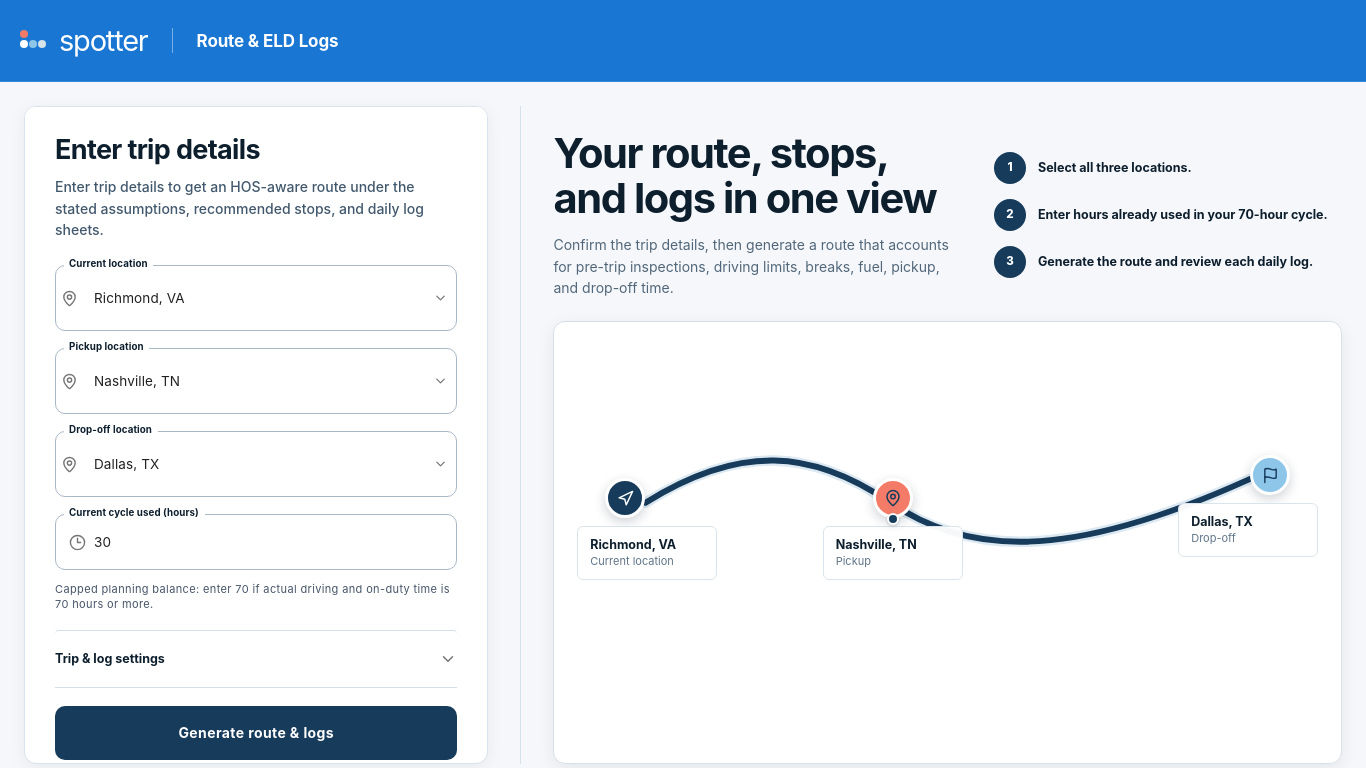
Test: Spotter application › clears a route API error as soon as the form changes
Click the button "Generate route & logs": (256, 733) [55,706,457,760]
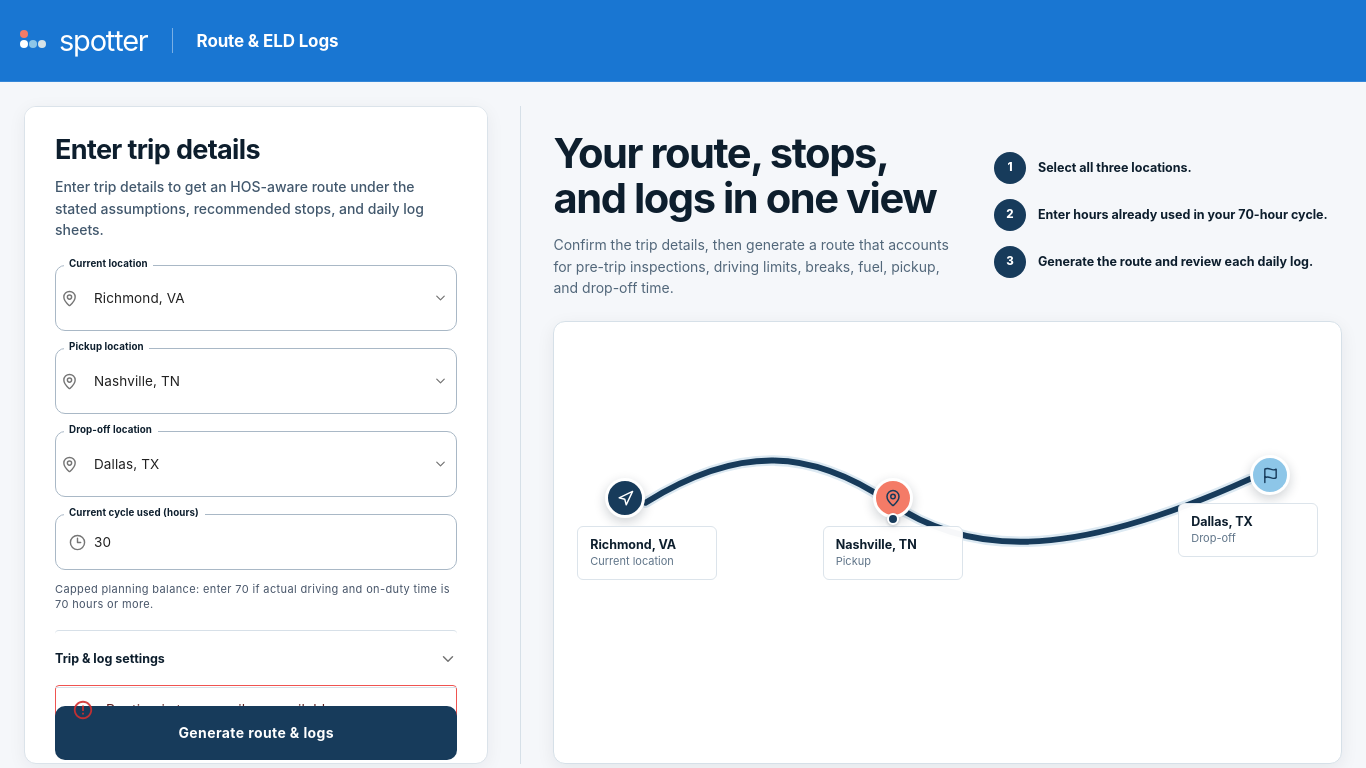
Now the text "Routing is temporarily unavailable." is shown, box [106,700,338,720]
Clear the number field labelled "Current cycle used (hours)": (276, 542) [94,515,457,569]
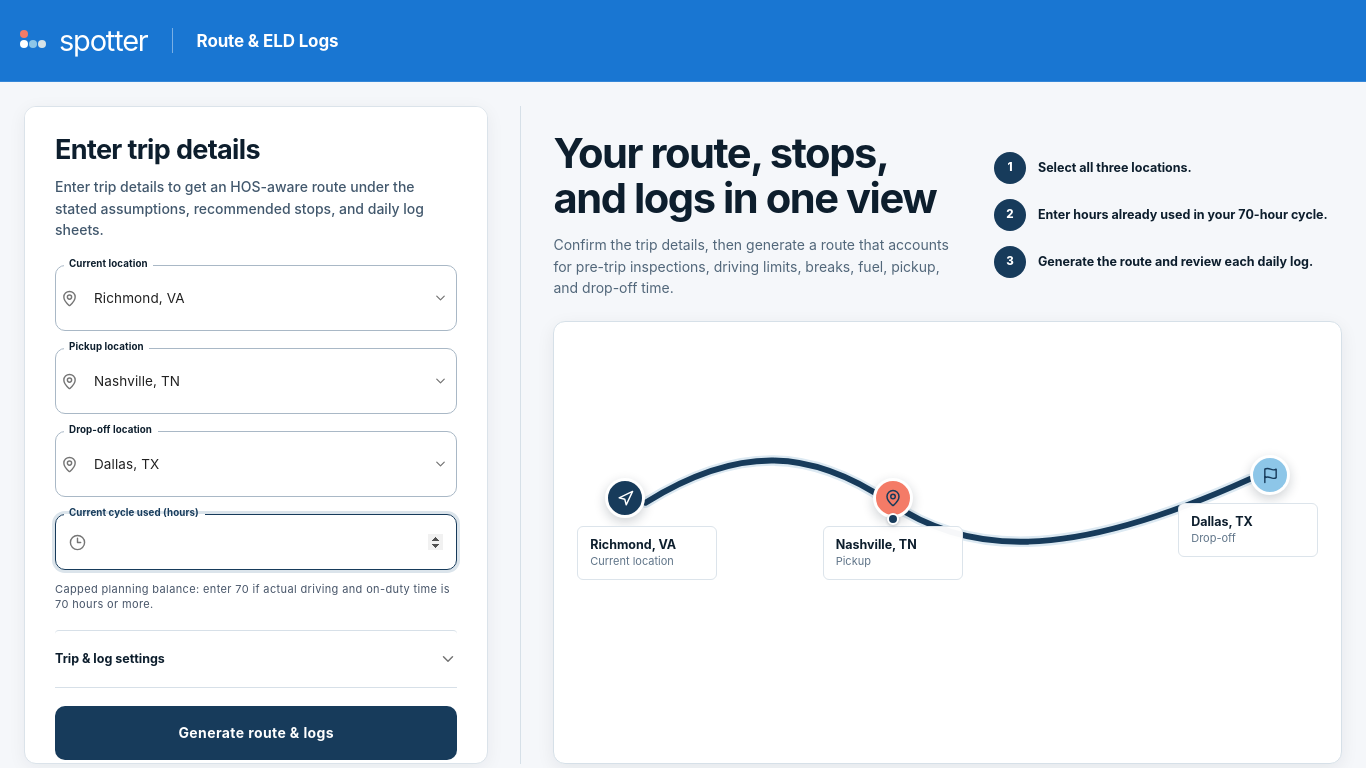
Now the text "Routing is temporarily unavailable." is gone
